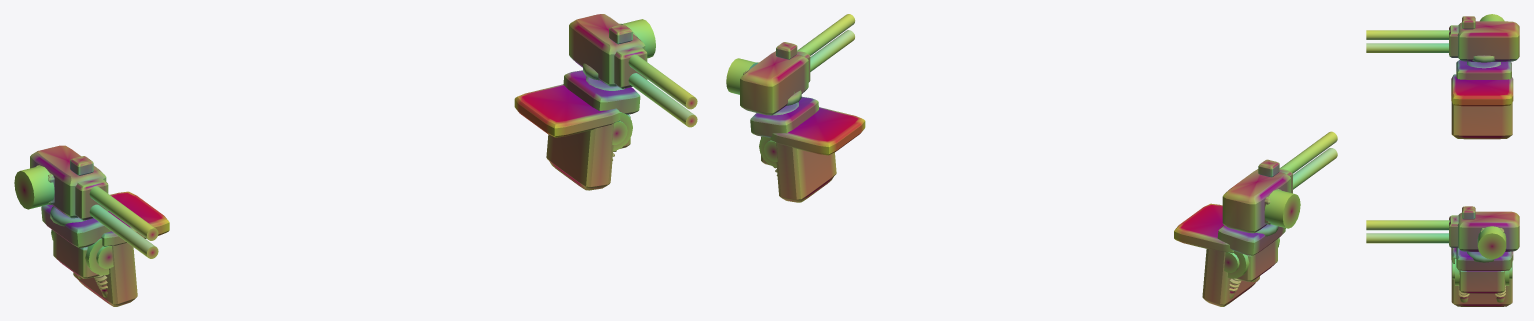
The model's file is llm_gen_shoulder_pods_005_3945af.glb.
The picture shows the model from 3 angles, left to right: view 1: azimuth 30°, elevation 25°; view 2: azimuth 150°, elevation 25°; view 3: azimuth 270°, elevation 25°; orthographic projection. The views are drawn at different scales.
Parts seen in each view (by area): view 1: adapter_shoulder_yoke_r, adapter_shoulder_yoke_l, turret_breech_2_adapter_dark_r, turret_breech_2_adapter_dark_l, turret_adapter_base_0_adapter_dark_r, ciws_drum_mag_5_crimson_gloss_l, turret_adapter_base_0_adapter_dark_l, ciws_barrel_top_6_barrel_metal_r, ciws_barrel_top_6_barrel_metal_l, ciws_barrel_bot_7_barrel_metal_r, ciws_barrel_bot_7_barrel_metal_l, adapter_sub_ciws_shroud_dark_3_adapter_dark_l (+3 smaller); view 2: adapter_shoulder_yoke_r, adapter_shoulder_yoke_l, turret_breech_2_adapter_dark_r, turret_breech_2_adapter_dark_l, turret_adapter_base_0_adapter_dark_r, turret_adapter_base_0_adapter_dark_l, ciws_drum_mag_5_crimson_gloss_l, ciws_barrel_top_6_barrel_metal_l, ciws_barrel_top_6_barrel_metal_r, ciws_barrel_bot_7_barrel_metal_r, ciws_barrel_bot_7_barrel_metal_l, ciws_drum_mag_5_crimson_gloss_r; view 3: adapter_shoulder_yoke_l, adapter_shoulder_yoke_r, turret_breech_2_adapter_dark_l, turret_breech_2_adapter_dark_r, ciws_barrel_top_6_barrel_metal_r, ciws_barrel_bot_7_barrel_metal_r, turret_adapter_base_0_adapter_dark_l, turret_adapter_base_0_adapter_dark_r, ciws_barrel_top_6_barrel_metal_l, ciws_barrel_bot_7_barrel_metal_l, ciws_drum_mag_5_crimson_gloss_r, servo_1_servo_accent_l (+7 smaller).
Part boxes in pixels (x1=…): adapter_shoulder_yoke_r: x1=514, y1=84, x2=632, y2=190; adapter_shoulder_yoke_l: x1=51, y1=191, x2=169, y2=306; turret_breech_2_adapter_dark_r: x1=569, y1=14, x2=645, y2=86; turret_breech_2_adapter_dark_l: x1=30, y1=145, x2=106, y2=218; turret_adapter_base_0_adapter_dark_r: x1=563, y1=70, x2=640, y2=114; ciws_drum_mag_5_crimson_gloss_l: x1=14, y1=166, x2=54, y2=209; turret_adapter_base_0_adapter_dark_l: x1=41, y1=204, x2=112, y2=248; ciws_barrel_top_6_barrel_metal_r: x1=628, y1=54, x2=697, y2=109; ciws_barrel_top_6_barrel_metal_l: x1=89, y1=186, x2=158, y2=240; ciws_barrel_bot_7_barrel_metal_r: x1=628, y1=73, x2=697, y2=127; ciws_barrel_bot_7_barrel_metal_l: x1=89, y1=204, x2=158, y2=258; adapter_sub_ciws_shroud_dark_3_adapter_dark_l: x1=75, y1=177, x2=108, y2=220; adapter_shoulder_yoke_r: x1=759, y1=107, x2=865, y2=202; adapter_shoulder_yoke_l: x1=1174, y1=203, x2=1279, y2=306; turret_breech_2_adapter_dark_r: x1=740, y1=51, x2=808, y2=115; turret_breech_2_adapter_dark_l: x1=1222, y1=169, x2=1290, y2=233; turret_adapter_base_0_adapter_dark_r: x1=750, y1=96, x2=818, y2=137; turret_adapter_base_0_adapter_dark_l: x1=1217, y1=225, x2=1285, y2=255; ciws_drum_mag_5_crimson_gloss_l: x1=1264, y1=189, x2=1300, y2=228; ciws_barrel_top_6_barrel_metal_l: x1=1280, y1=131, x2=1337, y2=173; ciws_barrel_top_6_barrel_metal_r: x1=798, y1=14, x2=855, y2=55; ciws_barrel_bot_7_barrel_metal_r: x1=810, y1=30, x2=854, y2=71; ciws_barrel_bot_7_barrel_metal_l: x1=1293, y1=148, x2=1337, y2=189; ciws_drum_mag_5_crimson_gloss_r: x1=726, y1=58, x2=757, y2=94; adapter_shoulder_yoke_l: x1=1451, y1=74, x2=1513, y2=139; adapter_shoulder_yoke_r: x1=1451, y1=248, x2=1513, y2=306; turret_breech_2_adapter_dark_l: x1=1457, y1=21, x2=1519, y2=61; turret_breech_2_adapter_dark_r: x1=1457, y1=211, x2=1519, y2=251; ciws_barrel_top_6_barrel_metal_r: x1=1366, y1=220, x2=1449, y2=230; ciws_barrel_bot_7_barrel_metal_r: x1=1366, y1=233, x2=1448, y2=243; turret_adapter_base_0_adapter_dark_l: x1=1456, y1=60, x2=1511, y2=79; turret_adapter_base_0_adapter_dark_r: x1=1456, y1=248, x2=1511, y2=271; ciws_barrel_top_6_barrel_metal_l: x1=1366, y1=30, x2=1449, y2=39; ciws_barrel_bot_7_barrel_metal_l: x1=1366, y1=43, x2=1448, y2=52; ciws_drum_mag_5_crimson_gloss_r: x1=1477, y1=226, x2=1506, y2=259; servo_1_servo_accent_l: x1=1467, y1=55, x2=1500, y2=68.
Bounding box in the file's own units: 109 × 24.66 × 32.05.
